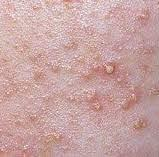papular: (86, 89, 107, 115), (135, 4, 155, 31)
purulent: (93, 58, 122, 80)
sebo-crystan-conglo: (131, 111, 153, 144), (118, 87, 142, 114)
